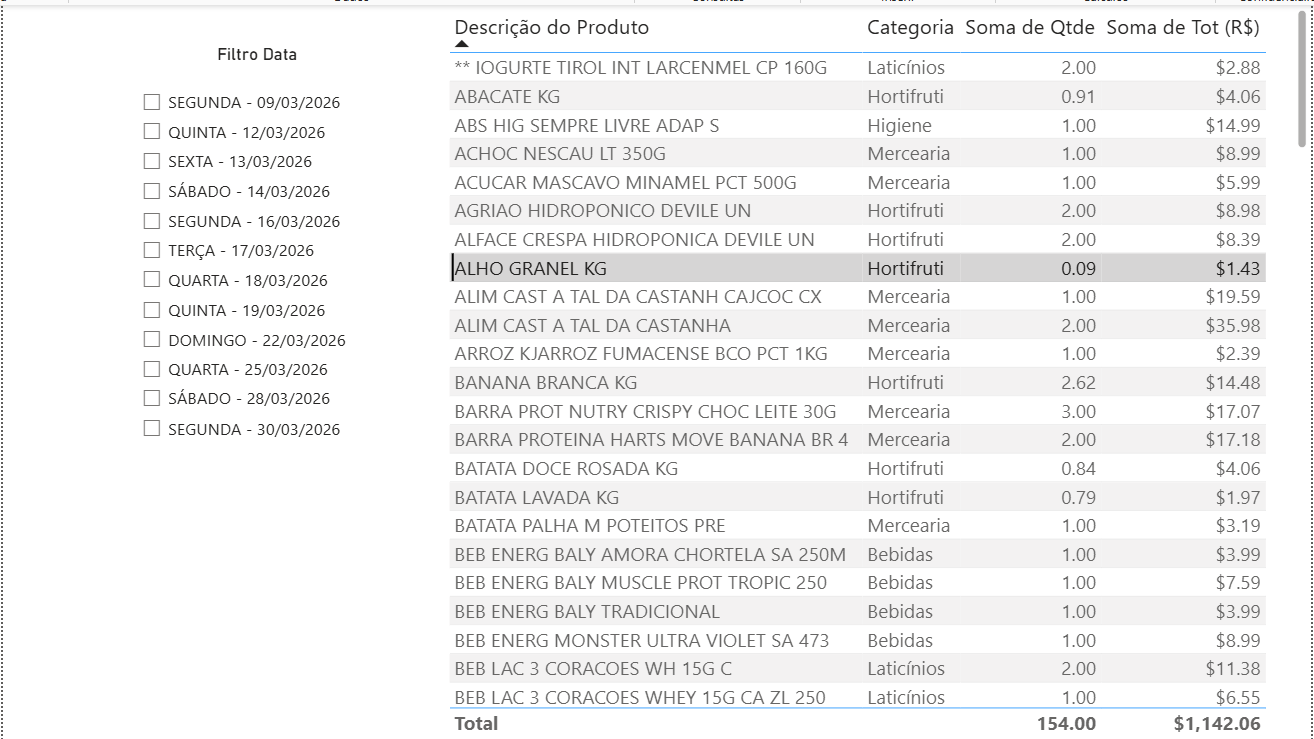

Layout of this report page (visuals, bound fields, positions):
{"tool":"powerbi","page":{"name":"Compra por Data","canvas":[1280,720],"ordinal":1},"visuals":[{"type":"slicer","title":"Filtro Data","fields":{"Values":["Mercado.DadaCompraF"]},"box":[124.7,37.9,248.2,407.2],"z":0},{"type":"tableEx","fields":{"Values":["Mercado.Descrição do Produto","Mercado.Categoria","Sum(Mercado.Tot (R$))"]},"box":[403.5,0,764.3,720.2],"z":1000}]}

Visuals, with their boxes on the page's 1280x720 design canvas (x1, y1, x2, y2). These are canvas units, not pixel positions in the 1314x739 screenshot, which may show the page scaled, cropped or inside an application window:
"Filtro Data" slicer: (x1=125, y1=38, x2=373, y2=445)
tableEx - Mercado.Descrição do Produto x Mercado.Categoria: (x1=404, y1=0, x2=1168, y2=720)
